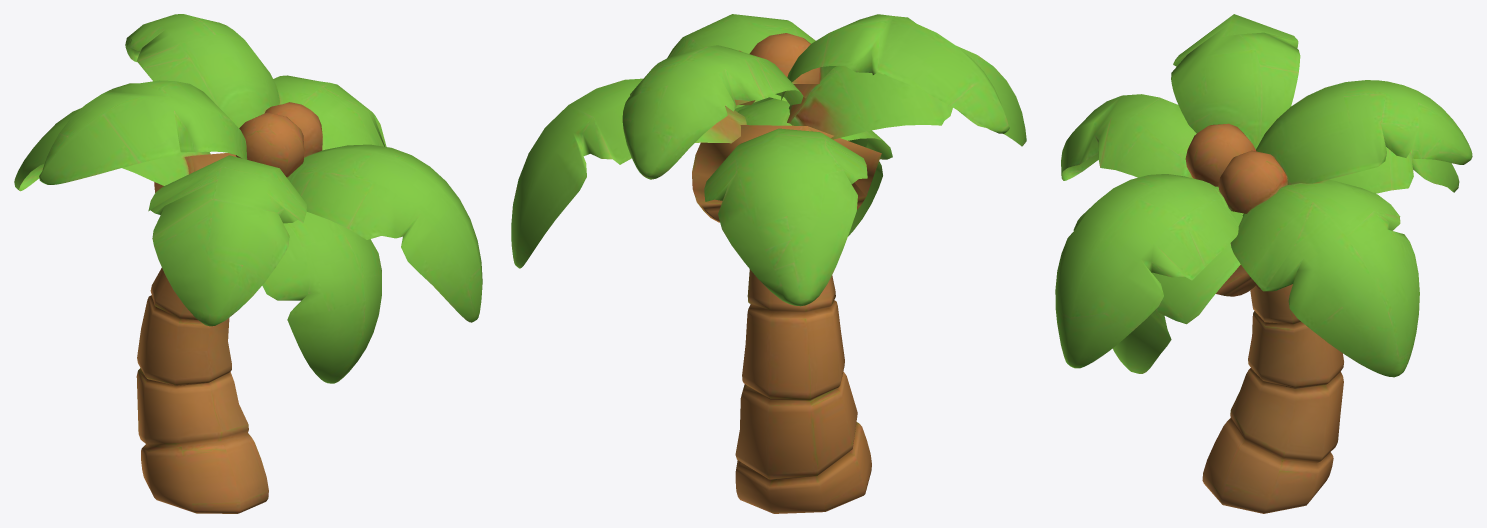
The model's file is palm.glb.
The picture shows the model from 3 angles, left to right: view 1: azimuth 30°, elevation 25°; view 2: azimuth 150°, elevation 25°; view 3: azimuth 270°, elevation 25°; orthographic projection. The views are drawn at different scales.
Parts seen in each view (by area): view 1: tripo_node_7e87056f-22a0-42cb-9a22-7322186a6c36; view 2: tripo_node_7e87056f-22a0-42cb-9a22-7322186a6c36; view 3: tripo_node_7e87056f-22a0-42cb-9a22-7322186a6c36.
Boxes of the visible parts, bbox=[...] form: tripo_node_7e87056f-22a0-42cb-9a22-7322186a6c36: bbox=[14, 14, 482, 513]; tripo_node_7e87056f-22a0-42cb-9a22-7322186a6c36: bbox=[511, 14, 1026, 513]; tripo_node_7e87056f-22a0-42cb-9a22-7322186a6c36: bbox=[1055, 14, 1472, 513].
Size of the model in its own units: 4.43 by 4.8 by 4.24.
1 material, 1 textured.
